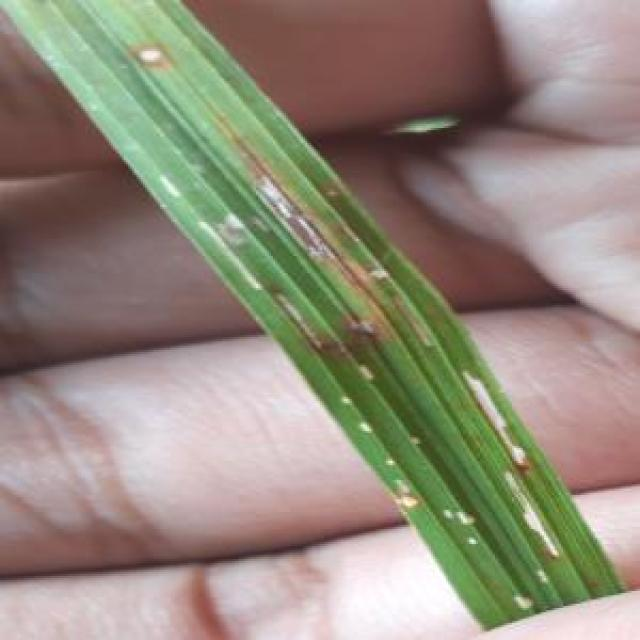Leaf_Blast: (211, 109, 350, 258), (241, 256, 329, 361), (105, 28, 182, 79)
